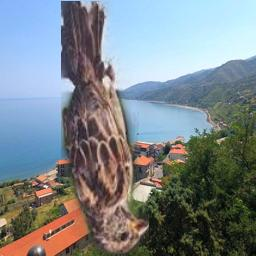Sparrow: (61, 1, 149, 256)
